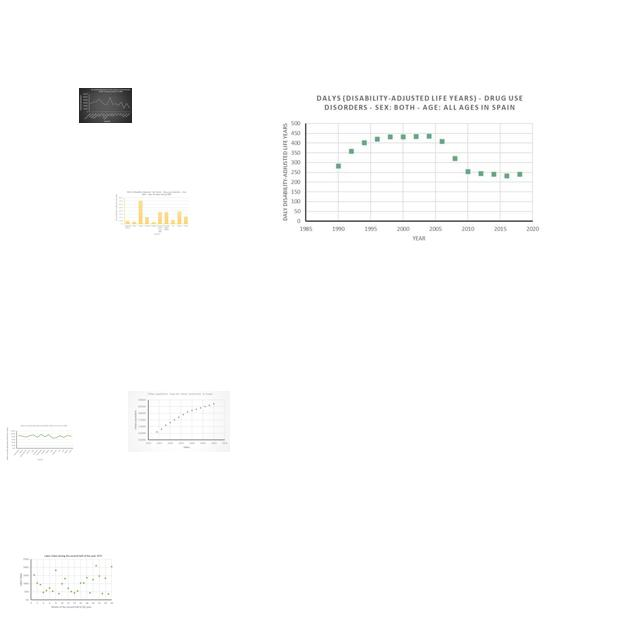Graph: (279, 90, 544, 248), (128, 391, 230, 452), (19, 554, 114, 609), (115, 190, 190, 236), (5, 423, 75, 462), (79, 88, 132, 123)
